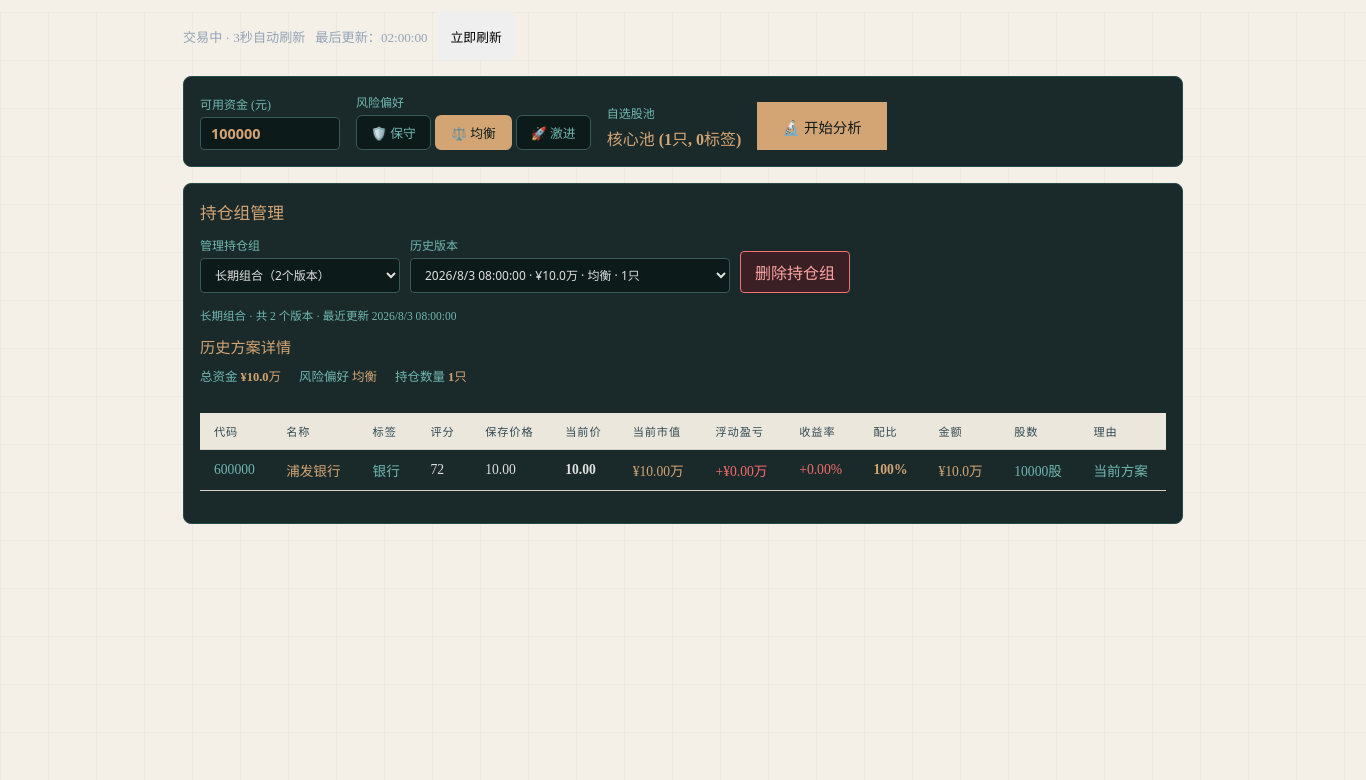
AiPortfolioAllocationWorkspace portfolio groups › shows an older version as read-only historical detail
Check: the heading "持仓组管理" is shown, box x1=200 y1=204 x2=284 y2=223
Select "2026/8/1 08:00:00 · ¥5.0万 · 保守 · 1只 · 含AI审查" in the dropdown labelled "历史版本": (570, 276) x1=410 y1=258 x2=730 y2=293
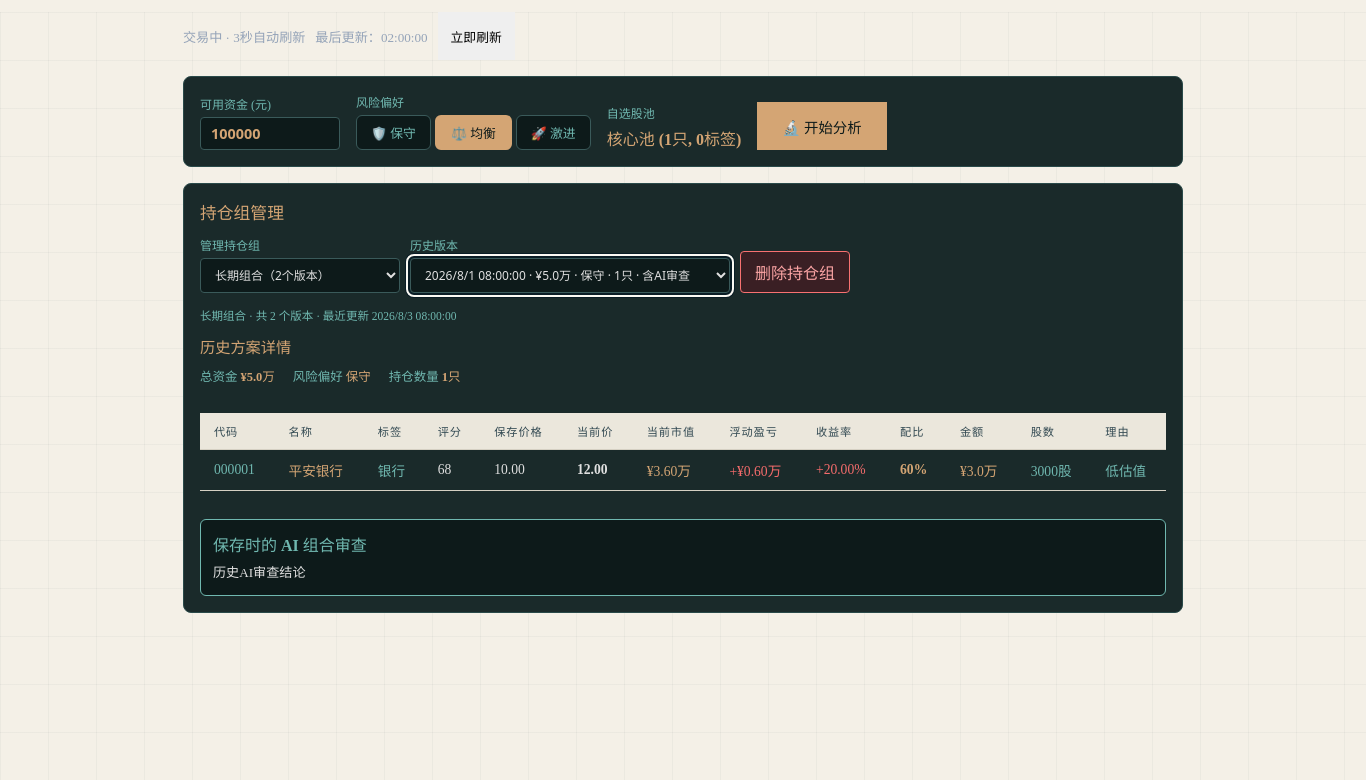
Check: the text "¥5.0万" is shown, box x1=240 y1=370 x2=275 y2=384
Check: the text "保守" is shown, box x1=346 y1=370 x2=371 y2=384
Check: the text "平安银行" is shown, box x1=275 y1=450 x2=364 y2=490
